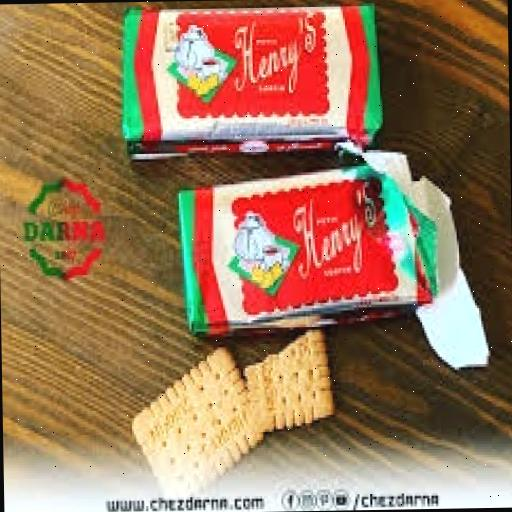golden: (122, 157, 496, 383), (69, 0, 400, 174)
